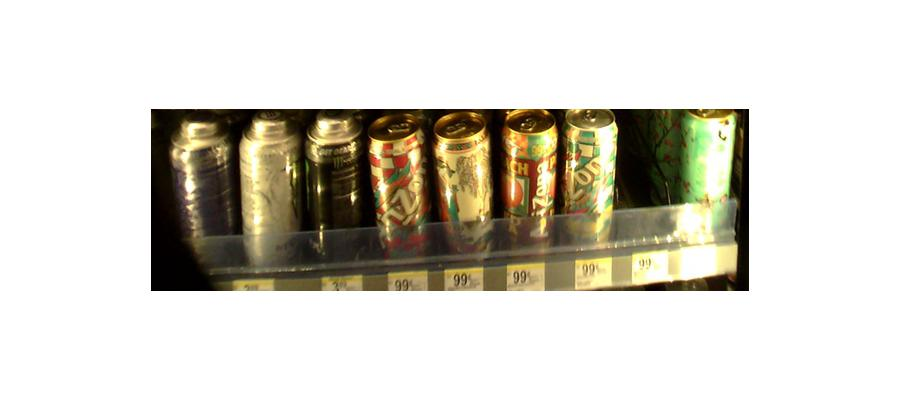bottle: (170, 115, 237, 261), (239, 113, 302, 265), (303, 114, 366, 257), (435, 118, 494, 260), (372, 119, 430, 259), (560, 107, 617, 249), (501, 112, 557, 254), (678, 107, 736, 243)
